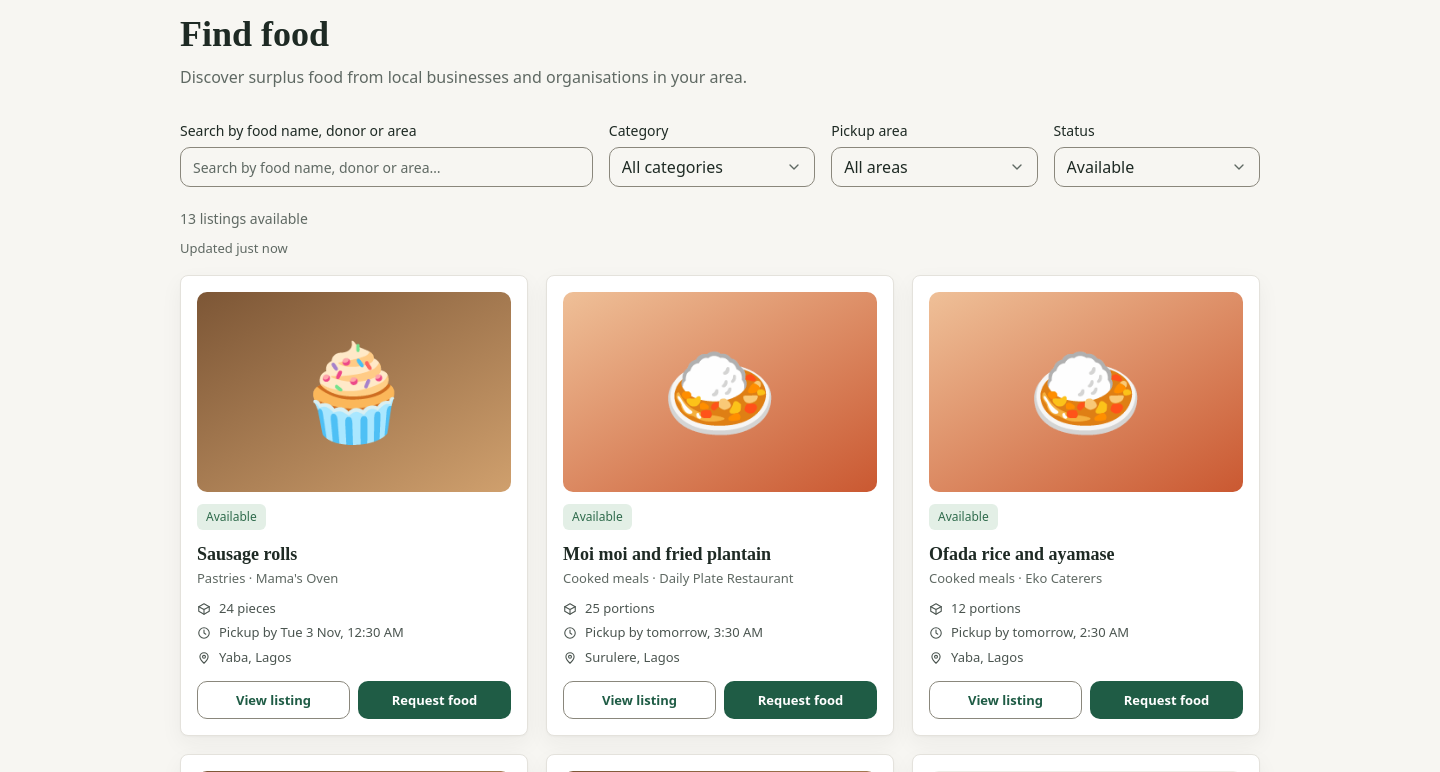
Test: Find food: filters › shows every status with "All statuses", stored as status=all
Expected: the heading "Sausage rolls" is shown, [197, 544, 297, 564]
Click the dropdown named "Status" at (1157, 167), box [1054, 147, 1260, 187]
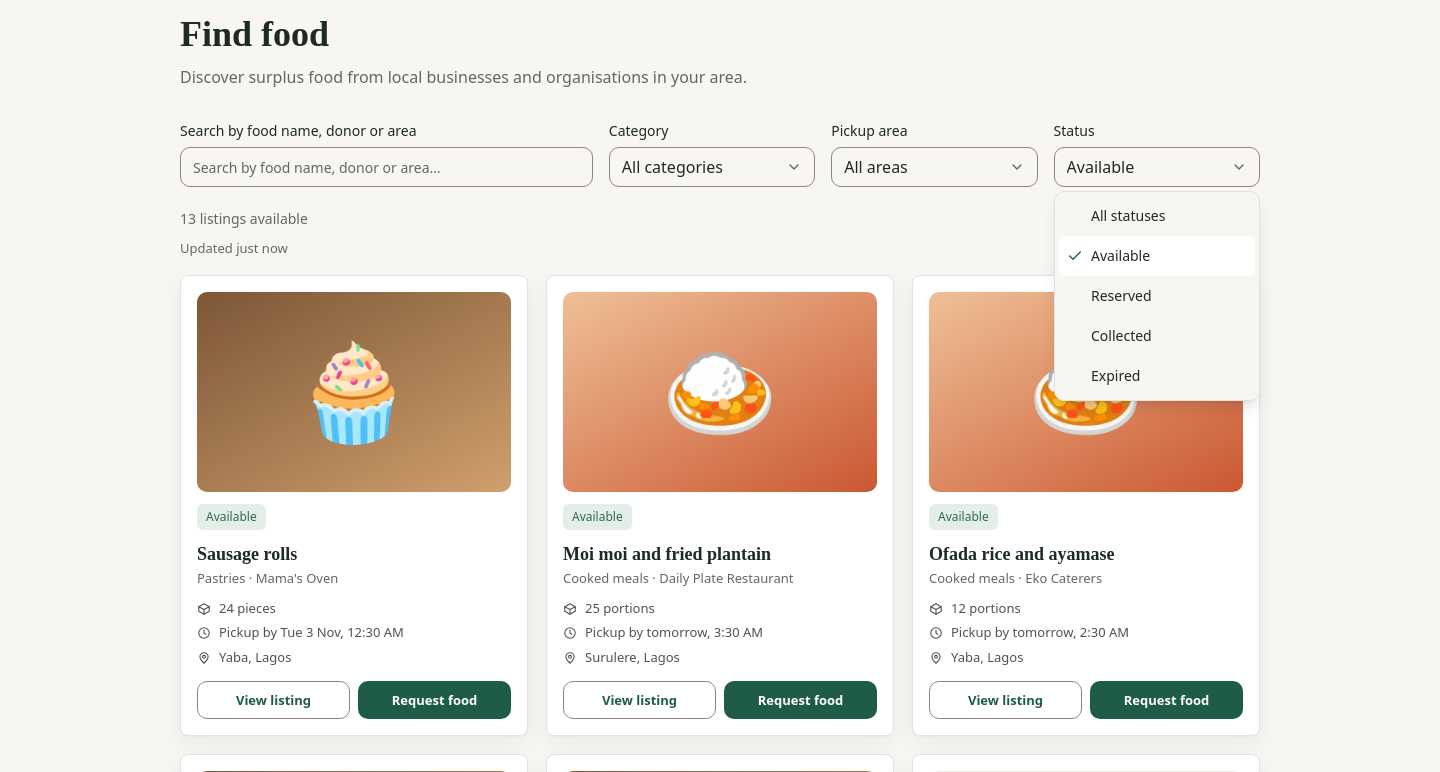
Click the option "All statuses" at (1128, 216), box [1091, 206, 1166, 225]
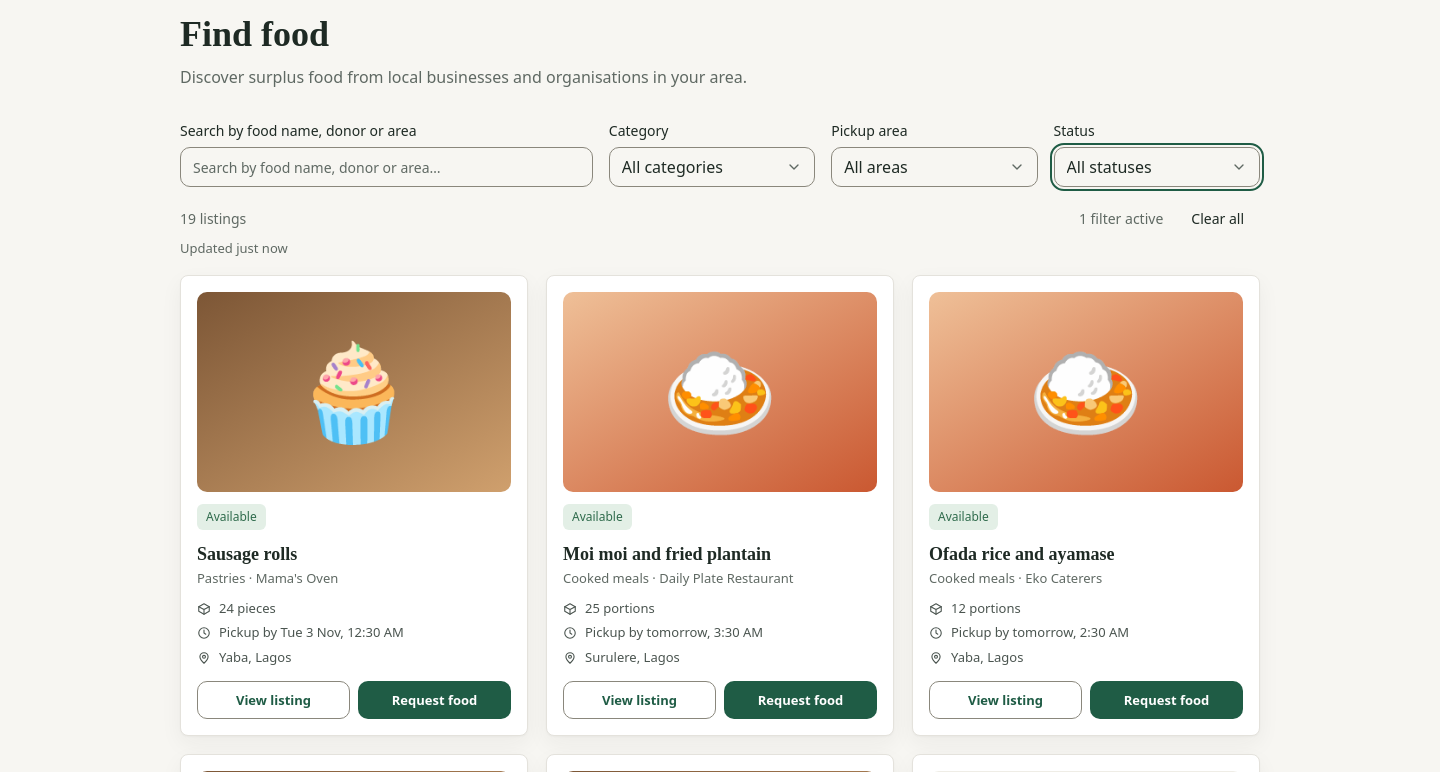
Result: the text "19 listings" is shown at [180, 209, 246, 229]
